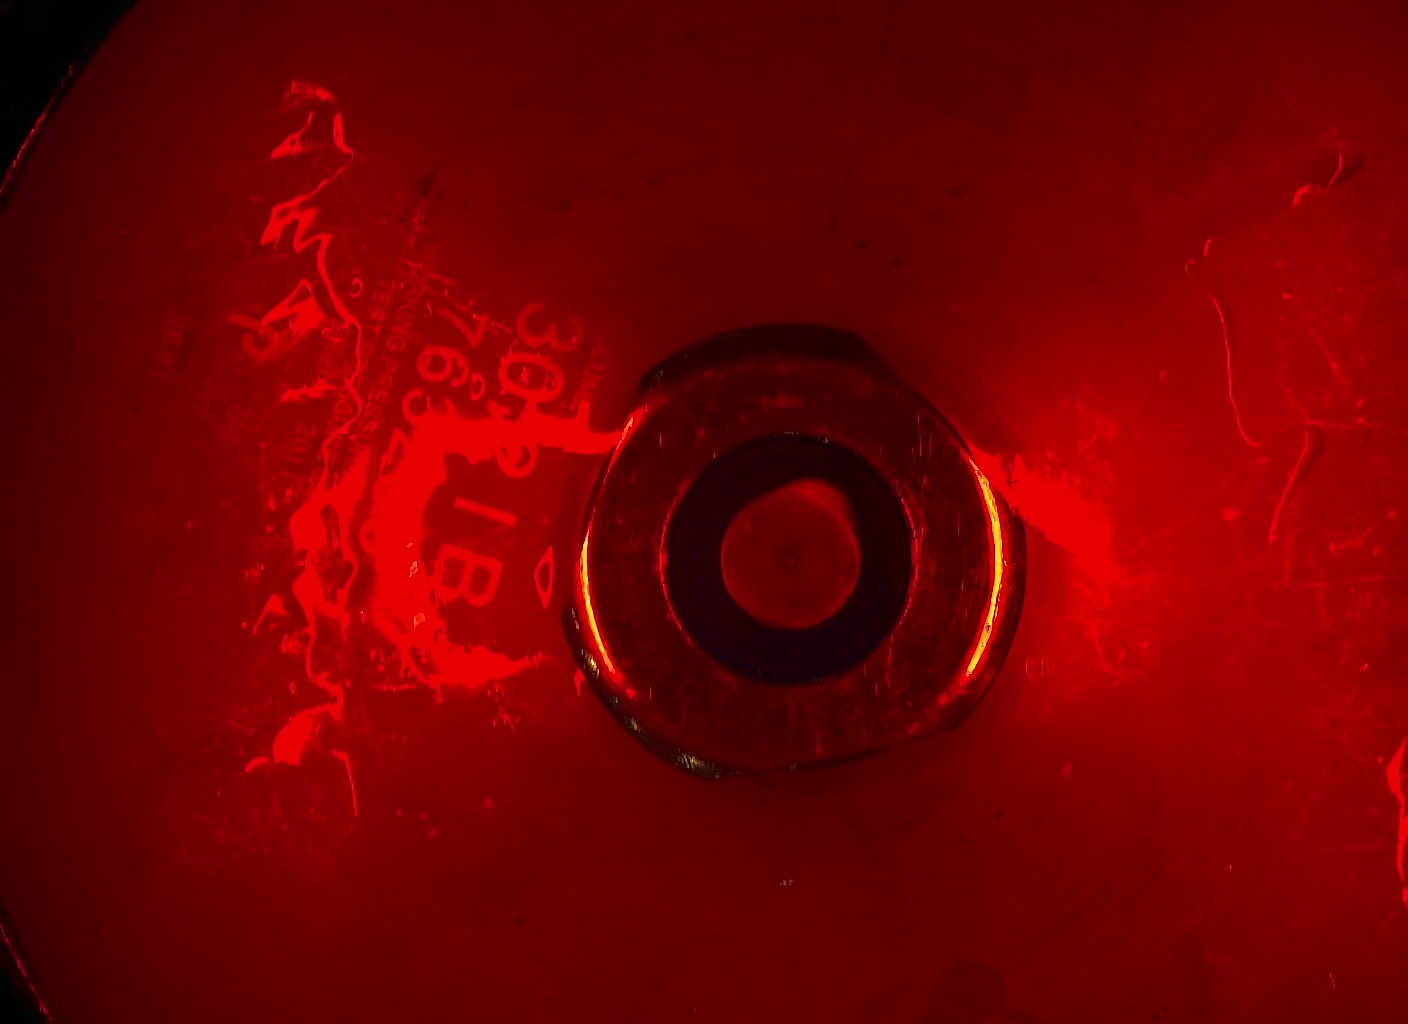pena: (776, 464, 867, 534)
